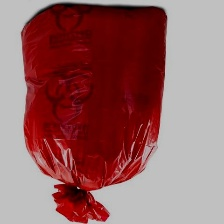plastic_bag: (10, 0, 171, 224)
